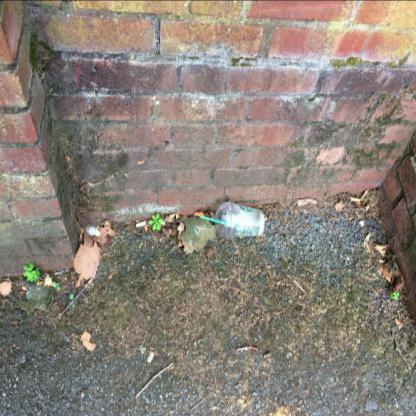Cigarette: (361, 189, 369, 198), (136, 221, 147, 227), (351, 197, 360, 201), (380, 260, 384, 262)
Cup: (224, 201, 264, 239)
Lid: (215, 201, 233, 238)
Straw: (200, 214, 225, 224)
